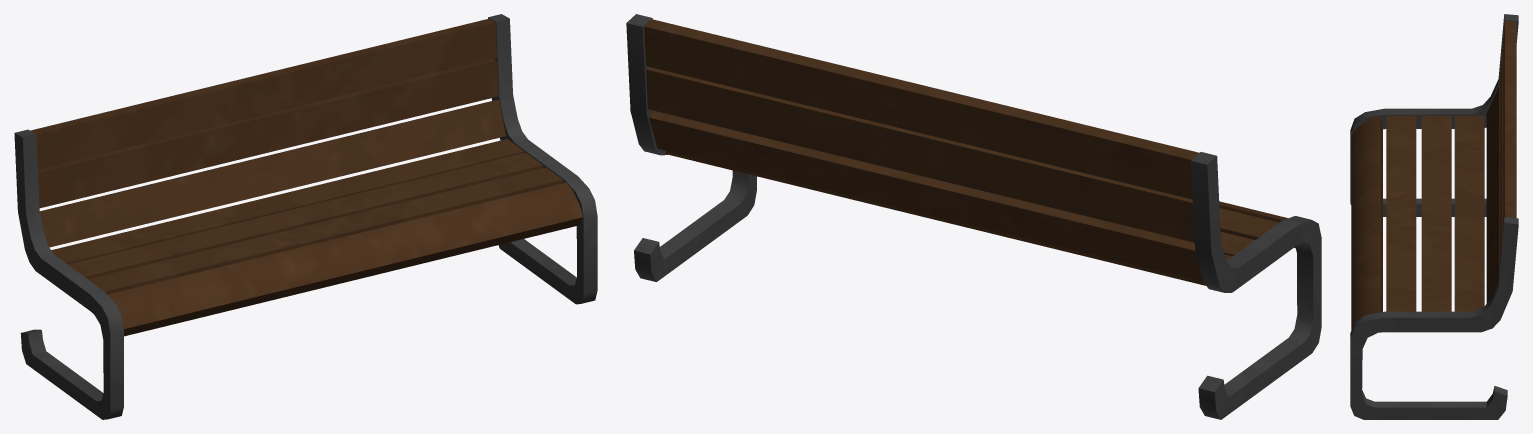
File: Bench2.fbx
3 views of the same model, side by side, from view 1: azimuth 30°, elevation 25°; view 2: azimuth 150°, elevation 25°; view 3: azimuth 270°, elevation 25° (orthographic). The views are drawn at different scales.
Visible parts, largest first — view 1: Bench2; view 2: Bench2; view 3: Bench2.
Boxes of the visible parts, x1,y1,x2,y2 form: Bench2: (14,14,597,419); Bench2: (626,14,1321,419); Bench2: (1350,14,1518,419).
Size of the model in its own units: 193 by 84.79 by 65.78.
Materials: 1 (1 with a texture image).
